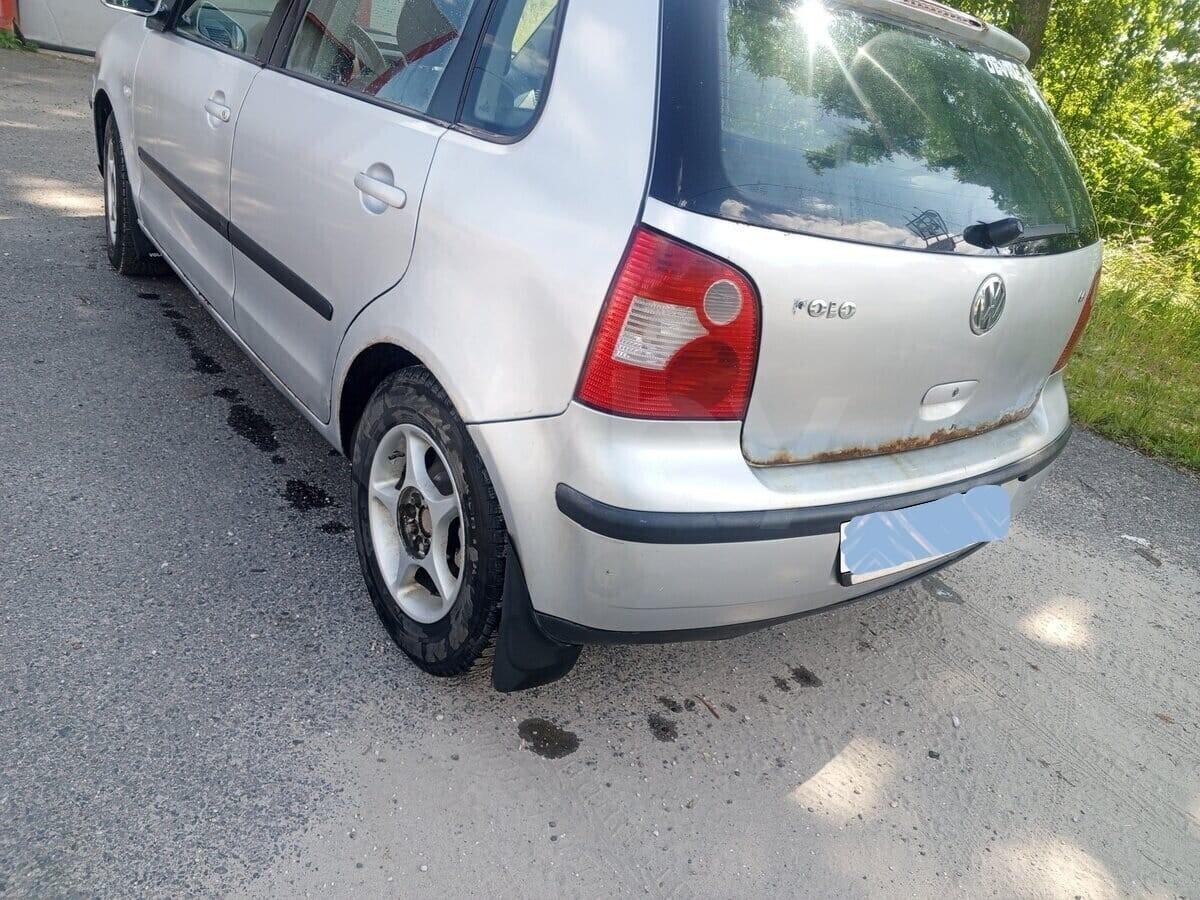Polo_2001-2005: (80, 0, 1099, 699)
